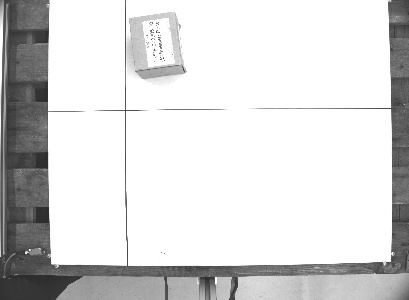b5: (126, 9, 191, 81)
